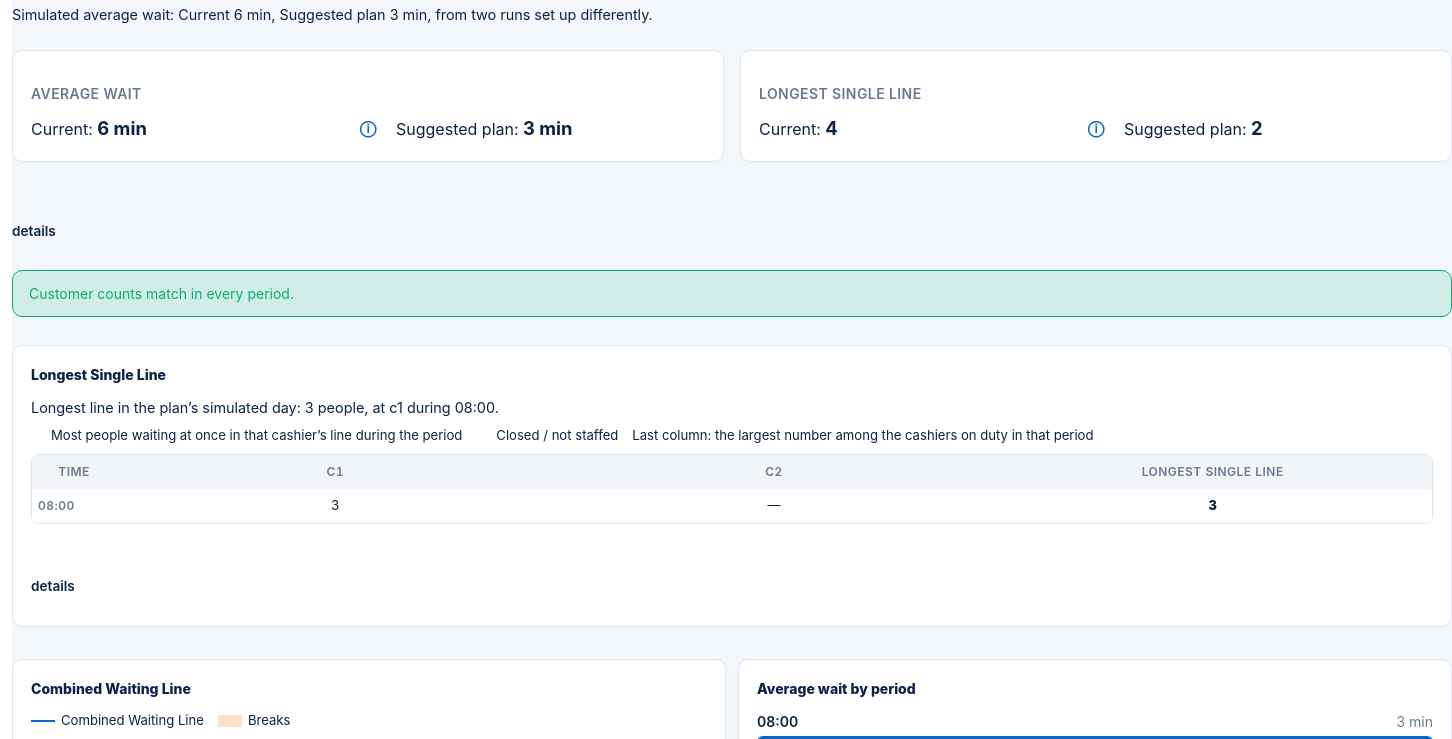
it: Key Results cards (B5) › explains the different basis for one continuous run per date (separate lines)
Hover over the button named "Why these are not the same basis".
mouse_move(368, 127)  # box [352,111,384,143]
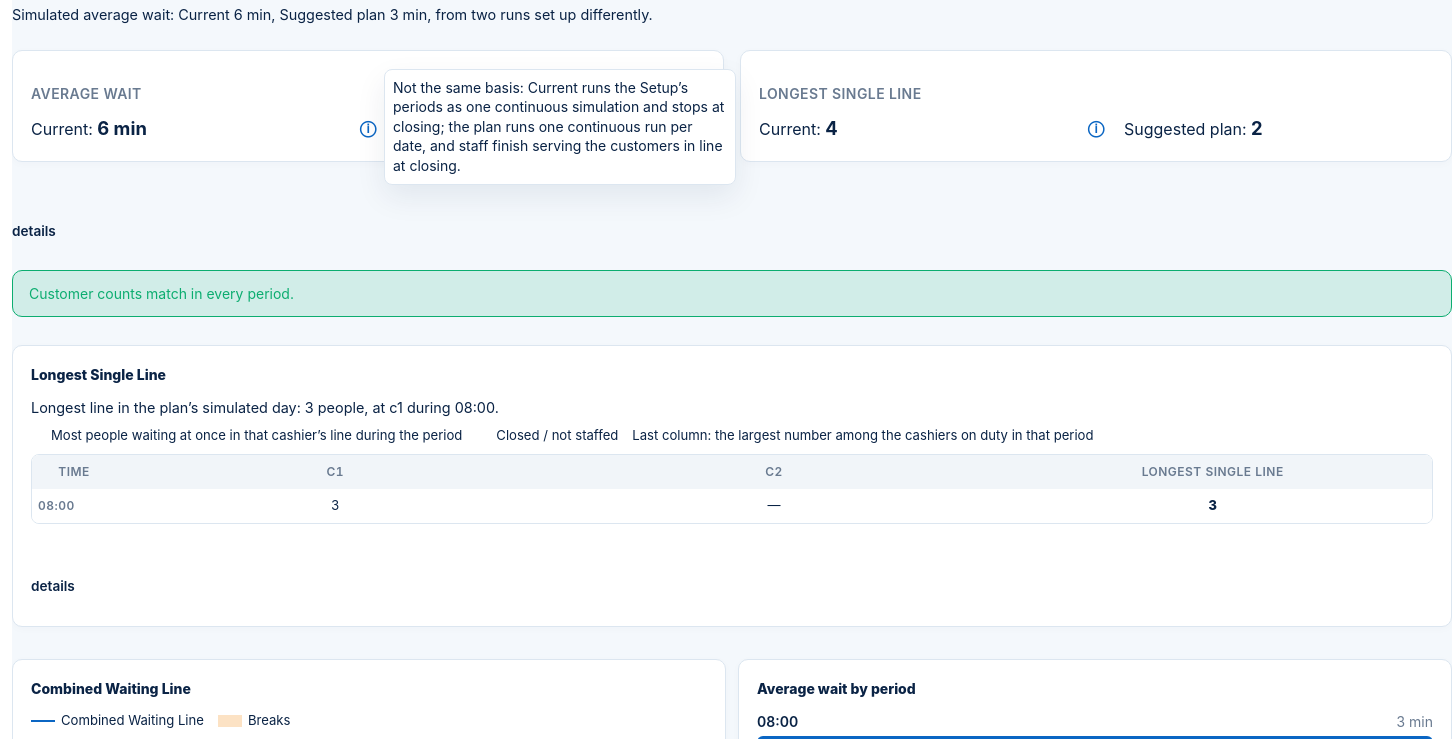
Check: the tooltip does not show "one period at a time", box [384,69,736,185]
Check: the tooltip shows "Not the same basis: Current runs the Setup’s periods as one continuous simulation and stops at closing; the plan runs one continuous run per date, and staff fin", box [393,79,724,174]
